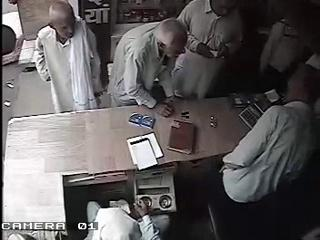Normal: (220, 55, 320, 205), (106, 18, 188, 118), (34, 0, 104, 114), (170, 0, 246, 100)
